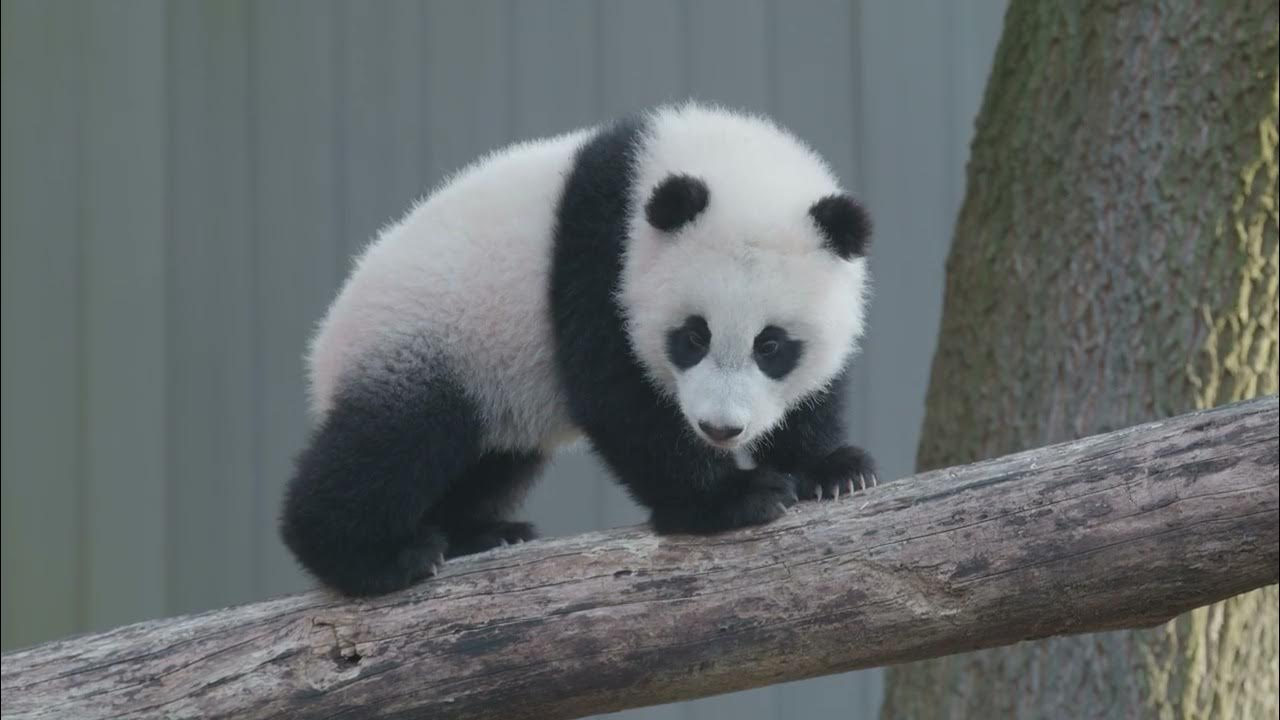Giant panda: (623, 169, 878, 452)
